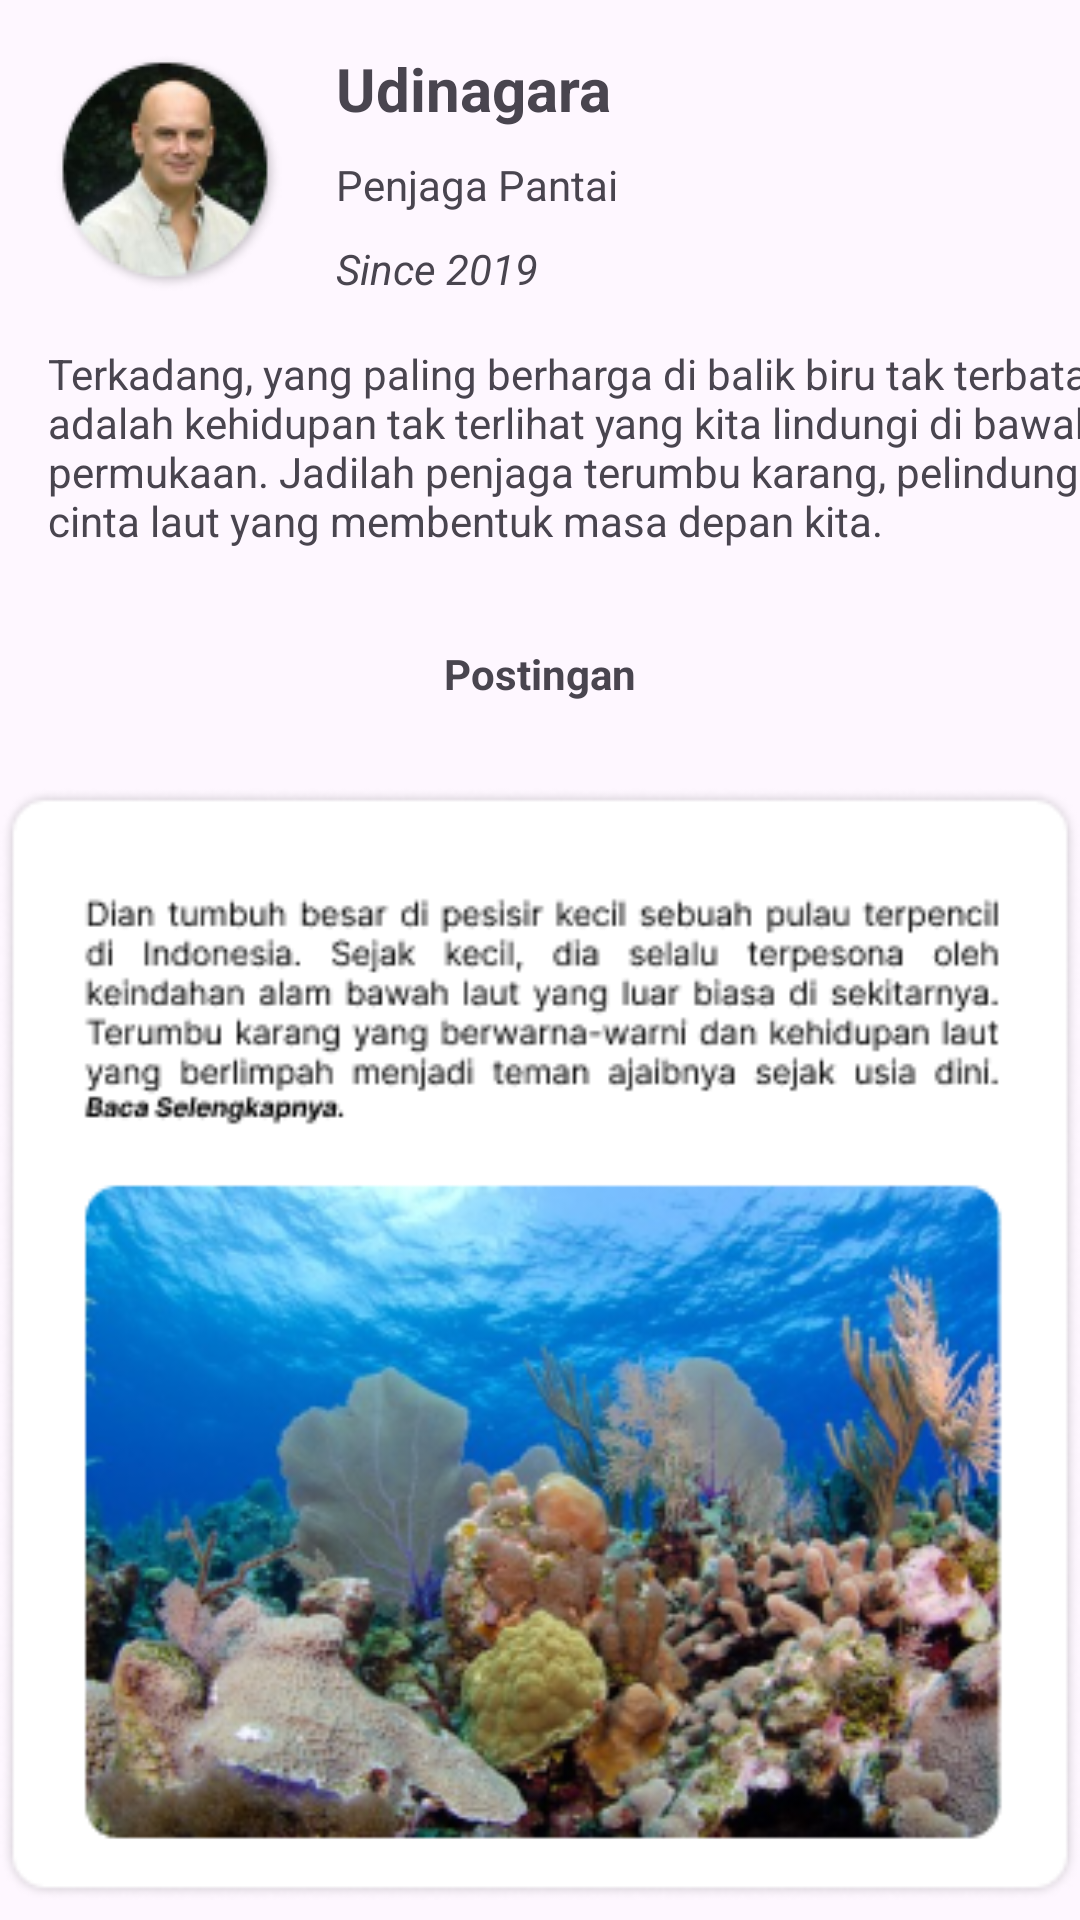

Where to tap for icons on this 1080px×1920px app screen, as [x,y]:
orang: [167,171]
